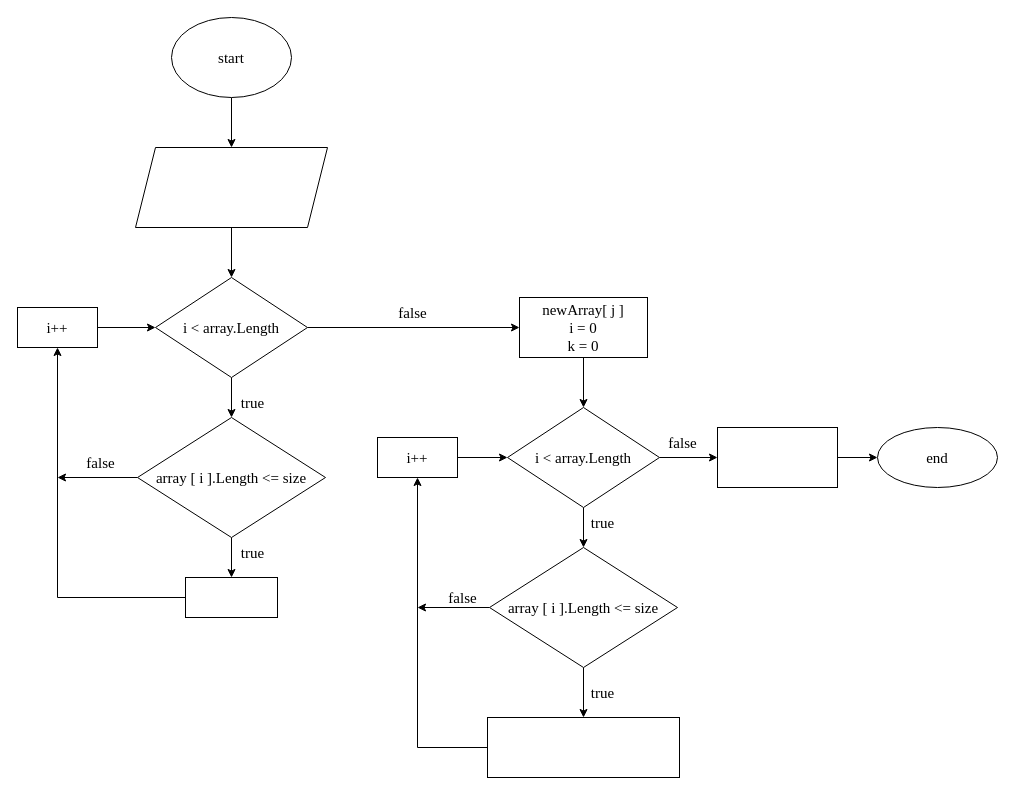
The diagram is 1015 pixels wide and 795 high, and some of its shapes have lost their labels. The shapes that lost their labels are listed below. From the top down, each one's box as (x1, y1, x2, y2) in pixels, then its label:
(134, 146, 328, 228): array [ n ] size i = 0 j = 0
(716, 426, 838, 488): return newArray
(184, 576, 278, 618): j++
(486, 716, 680, 778): newArray [ k ] = array [ i ] k++
